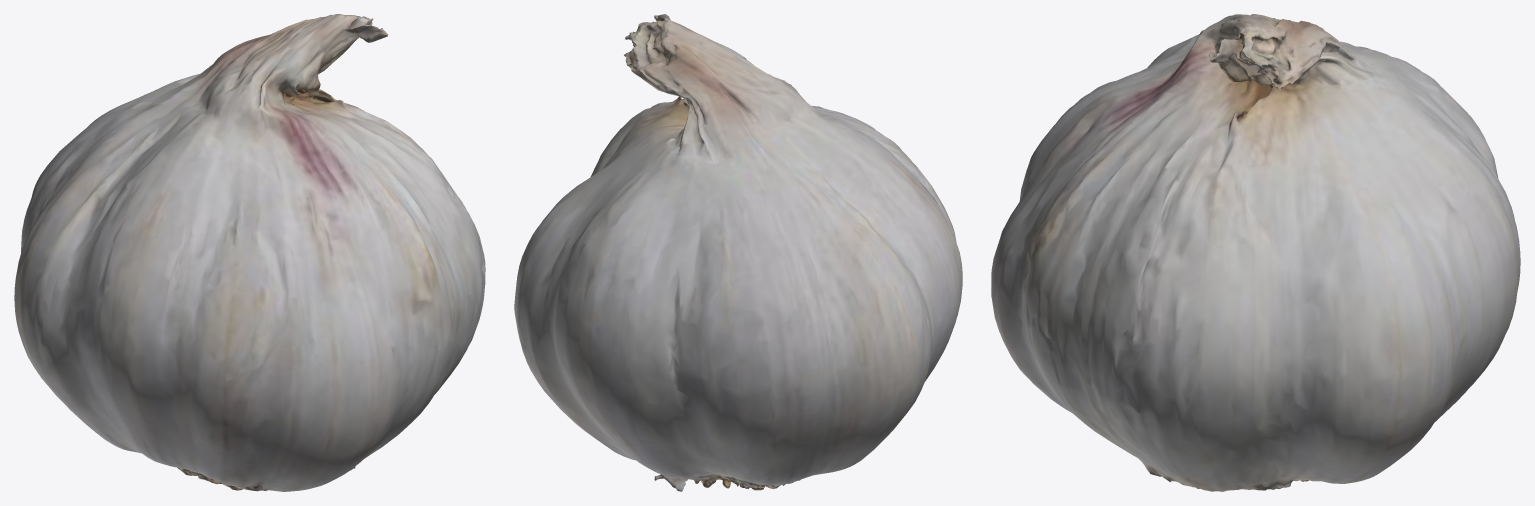
The model's file is garlic.glb.
3 views of the same model, side by side, from view 1: azimuth 30°, elevation 25°; view 2: azimuth 150°, elevation 25°; view 3: azimuth 270°, elevation 25° (orthographic). The views are drawn at different scales.
Parts seen in each view (by area): view 1: garlic; view 2: garlic; view 3: garlic.
Boxes of the visible parts, x1,y1,x2,y2 form: garlic: [14, 14, 485, 491]; garlic: [514, 14, 962, 491]; garlic: [991, 14, 1520, 491].
Bounding box in the file's own units: 0.0501 × 0.0514 × 0.0523.
Materials: 1 (1 with a texture image).
